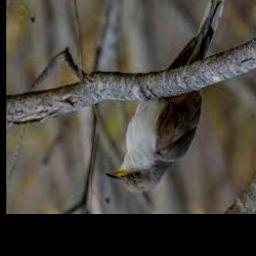Cuckoo: (104, 0, 227, 192)
